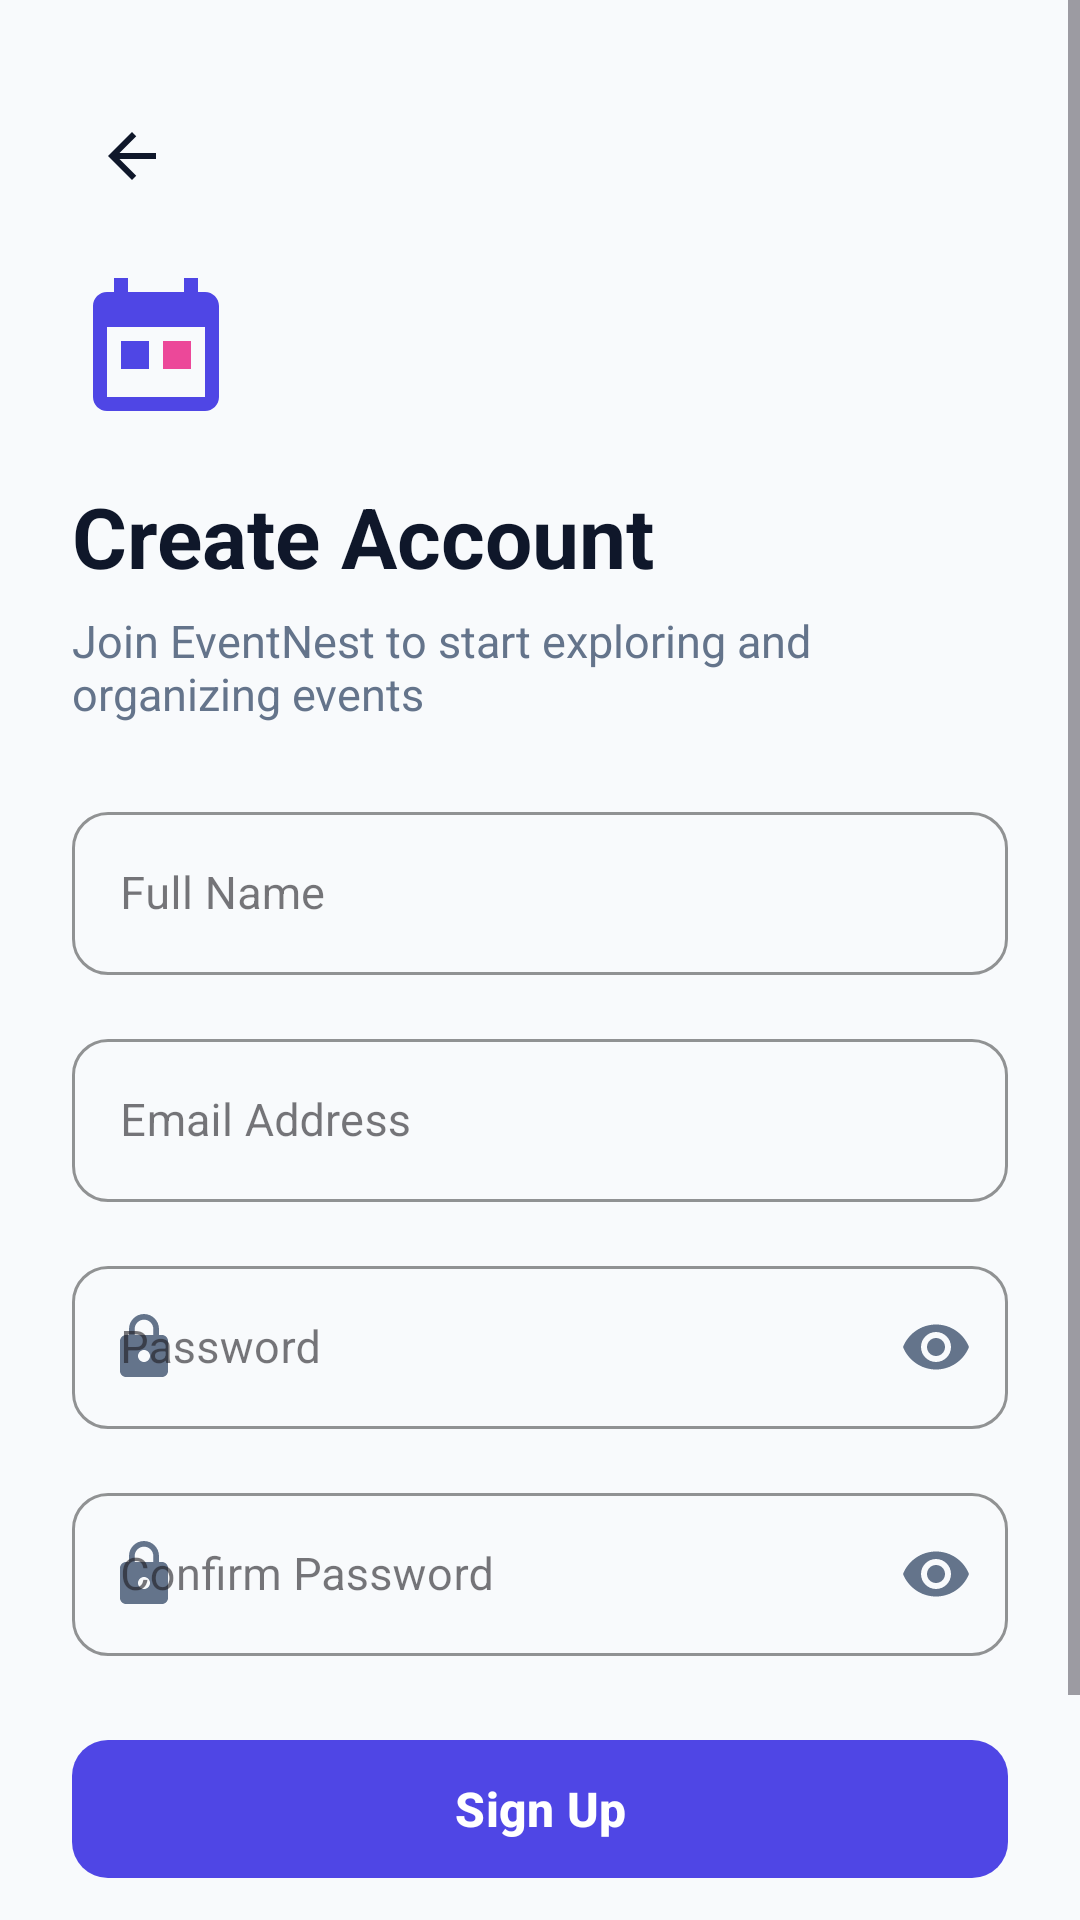

Where icons sit on this 1080x1920 app screen, as detection(x1, y1, x2, y2):
Back to Login: detection(108, 132, 156, 180)
